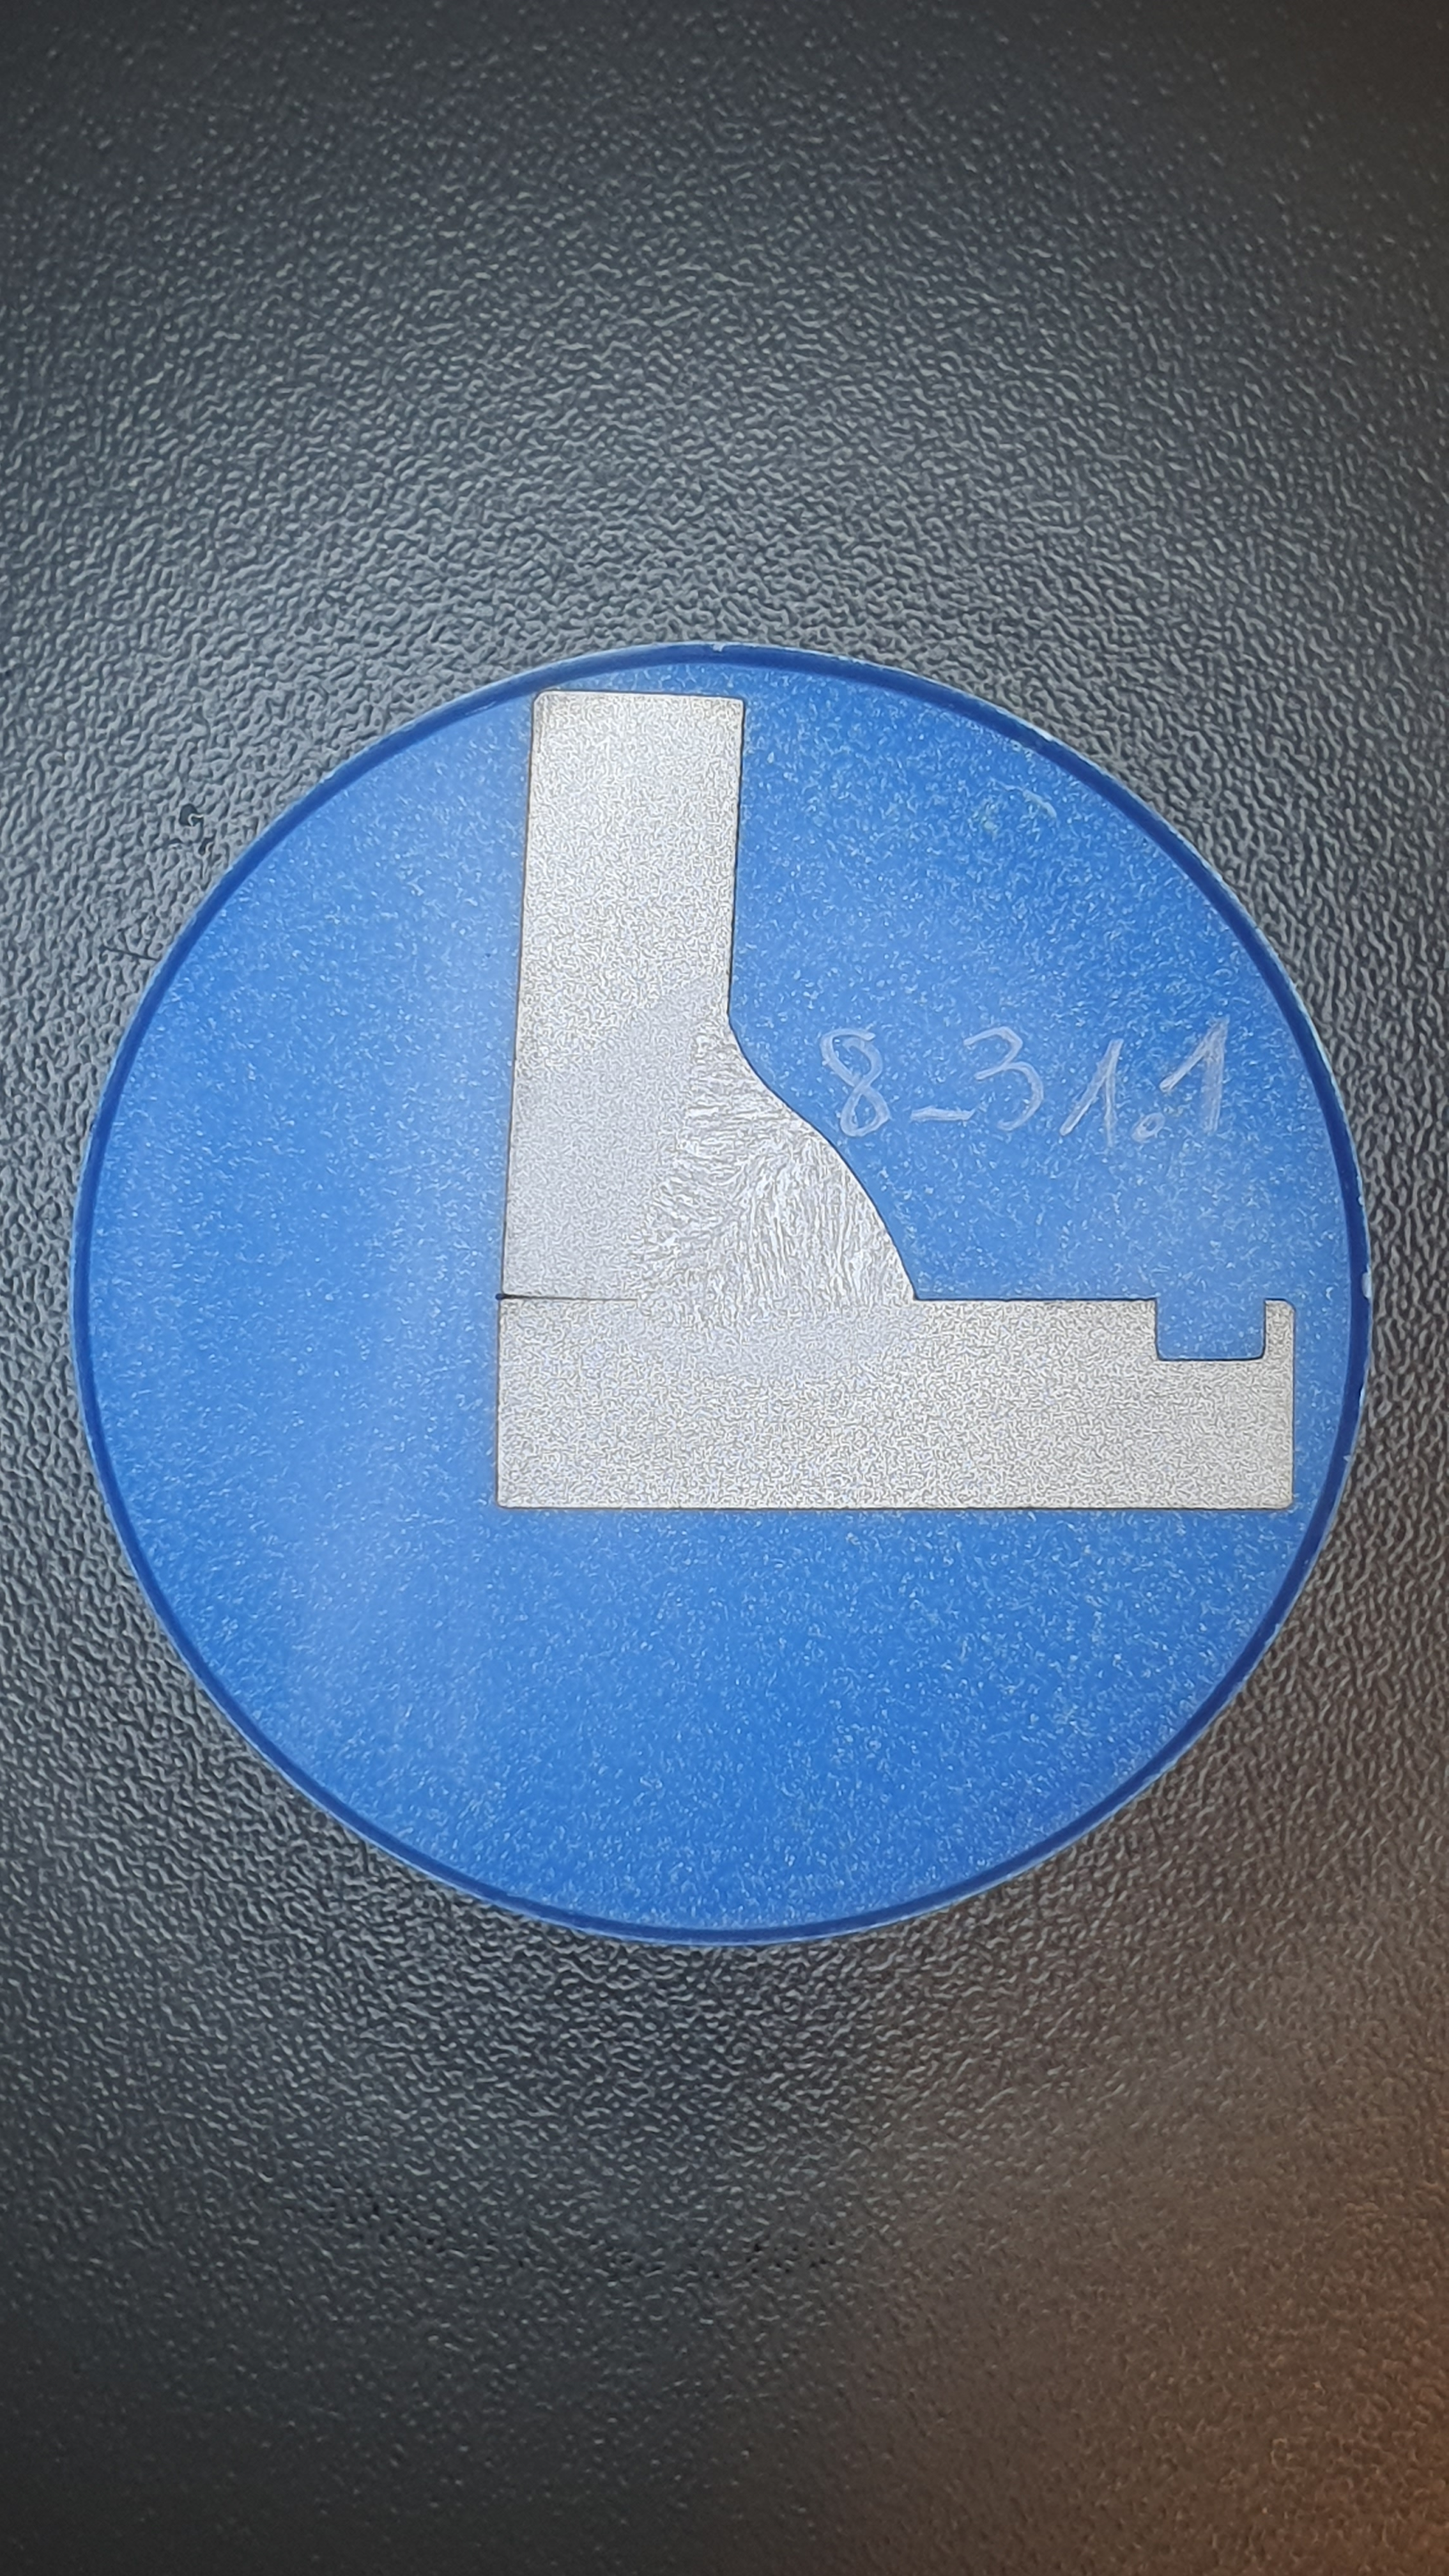Fusion: (637, 989, 913, 1330)
Hintergrund: (85, 662, 1352, 1928)
Metall: (495, 690, 1295, 1509)
Nebenbereich: (564, 962, 927, 1385)
